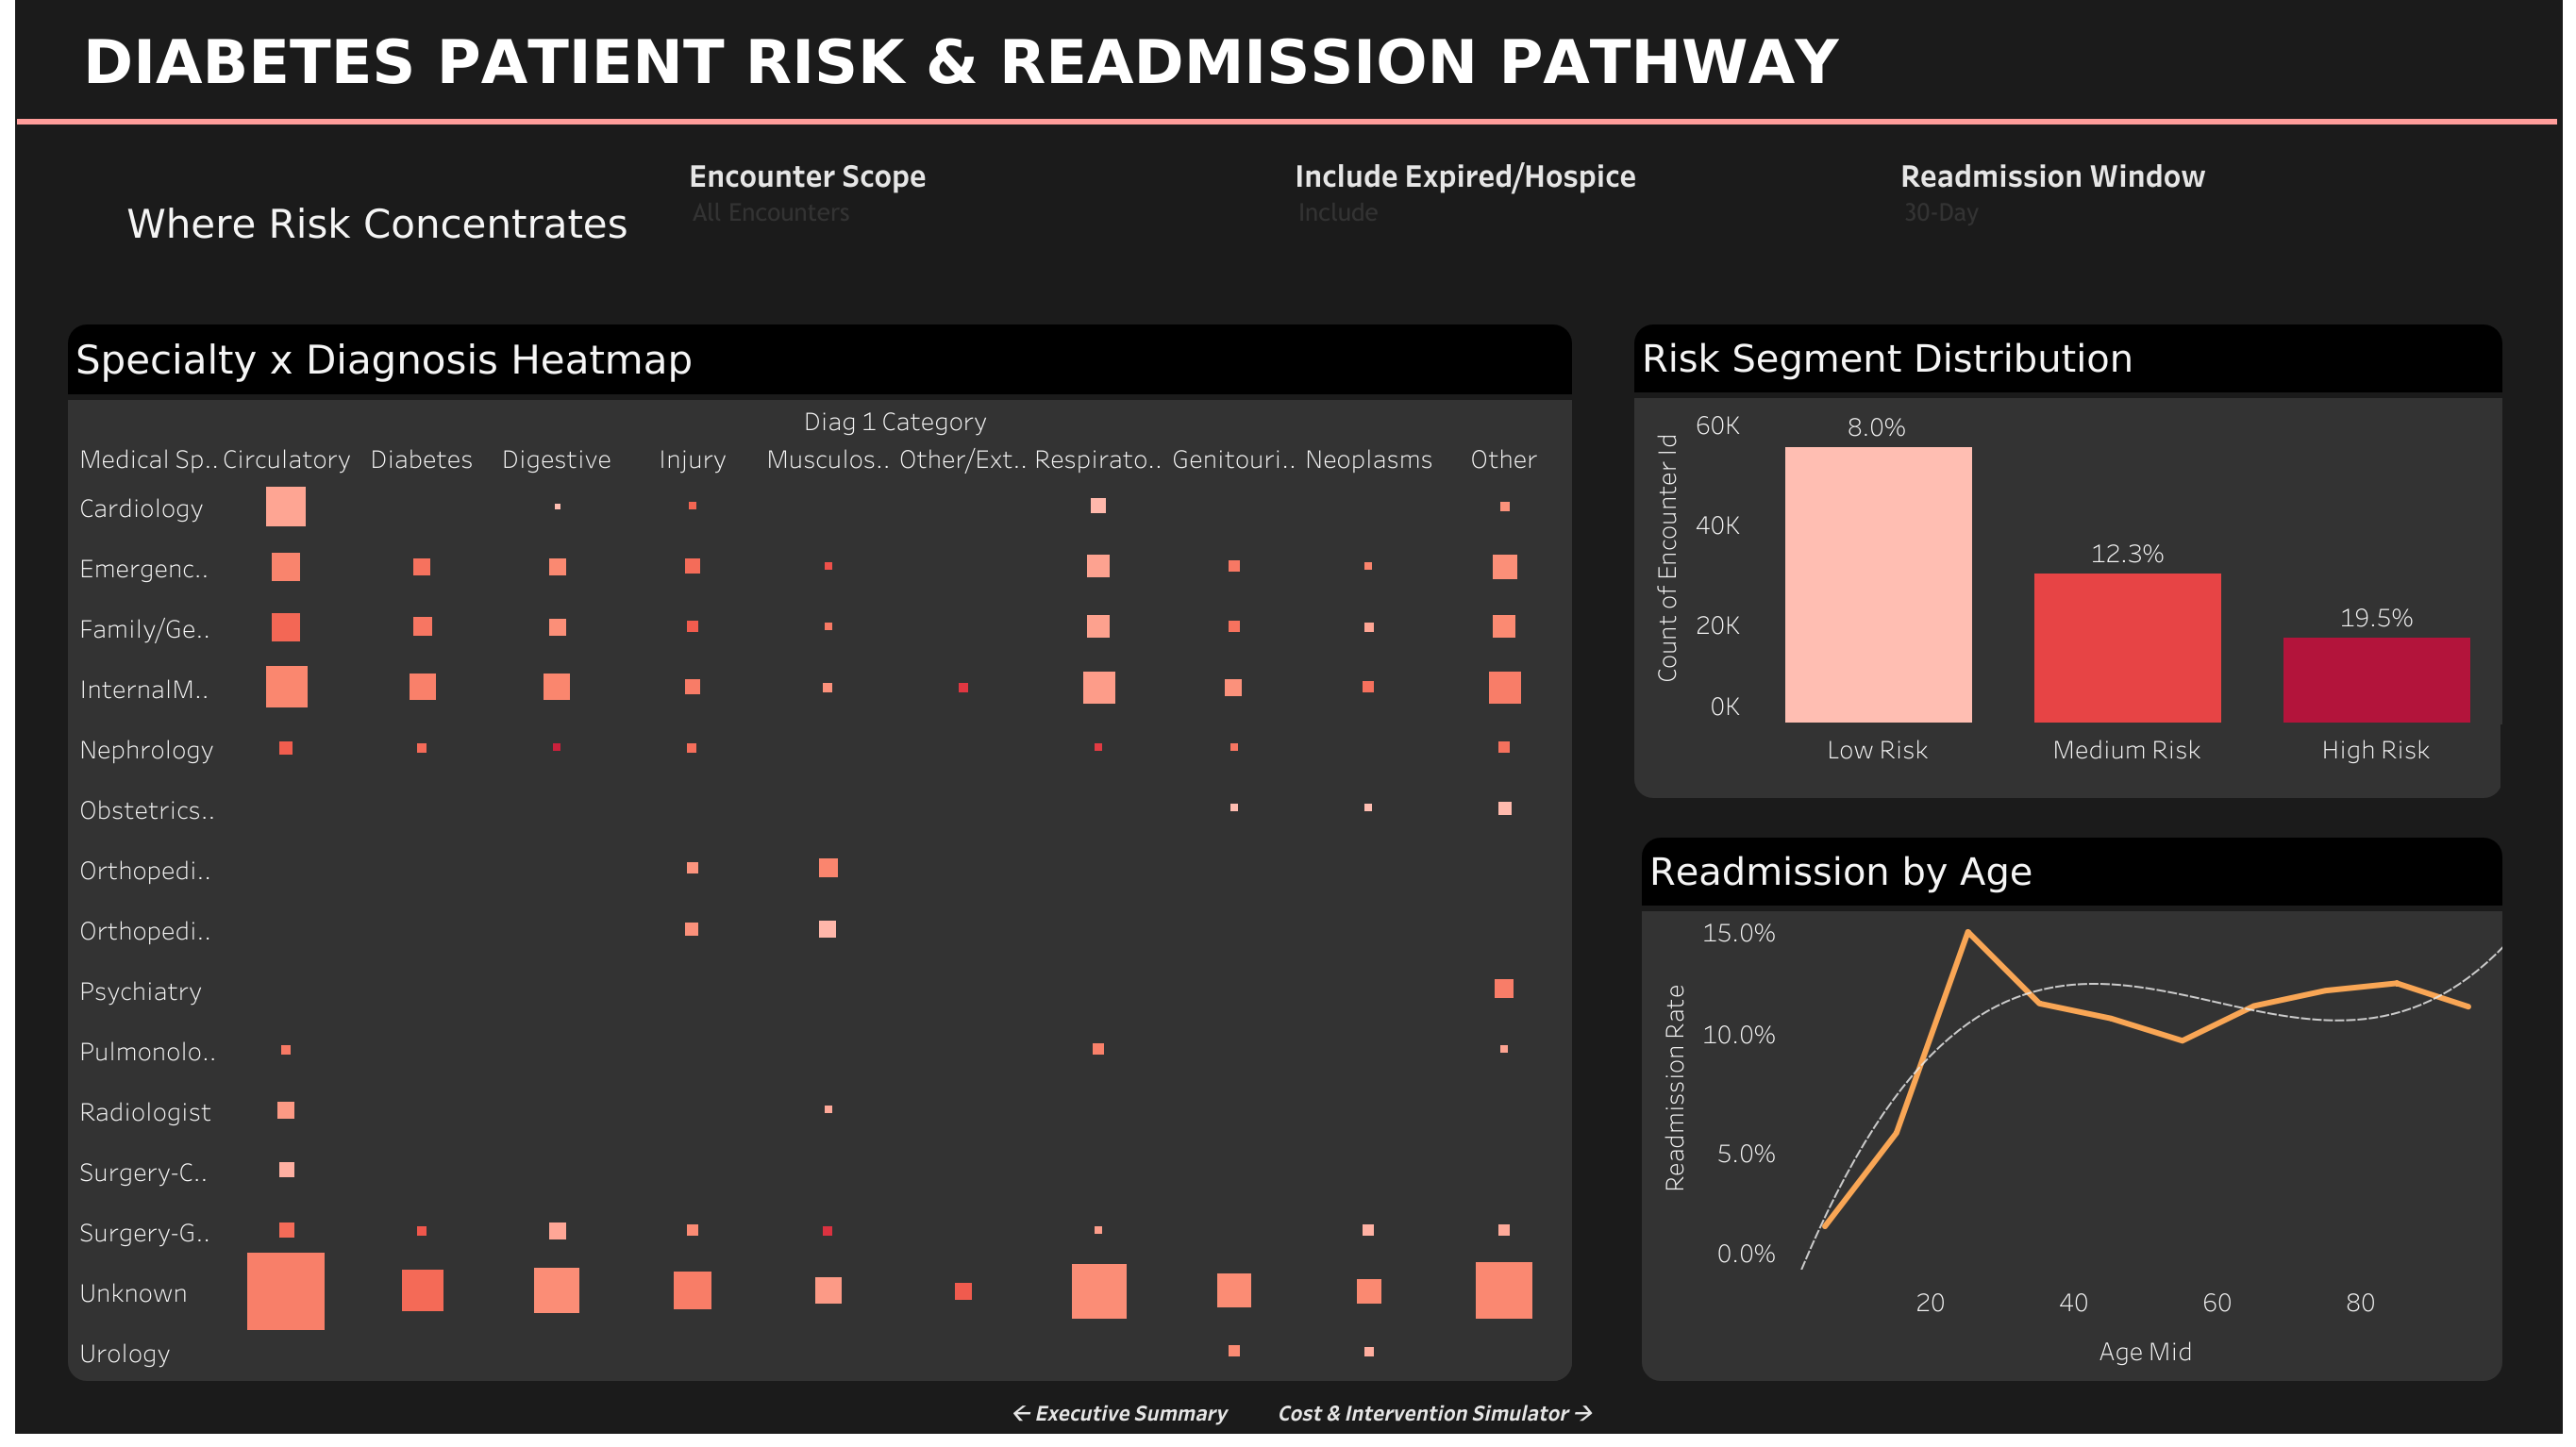

This screenshot's page, from the dashboard's own definition file:
{"tool":"tableau","page":{"name":"Where Risk Concentrates","canvas":[1366,768],"ordinal":3},"visuals":[{"type":"text","box":[8,0,1350,65]},{"type":"text","box":[39,76,322,85]},{"type":"parameter","param":"[Parameters].[Parameter 2445124789719042]","box":[361,76,321,85]},{"type":"parameter","param":"[Parameters].[Parameter 2445124789452801]","box":[682,76,321,85]},{"type":"parameter","param":"[Parameters].[Parameter 2445124788506624]","box":[1003,76,321,85]},{"type":"worksheet","title":"Specialty x Diagnosis Heatmap","mark":"Square","rows":["medical_specialty"],"cols":["diag_1_category"],"box":[36,172,797,560]},{"type":"worksheet","title":"Risk Segment Distribution","mark":"Bar","rows":["encounter_id"],"cols":["Calculation_2445124791078921"],"box":[866,172,460,251]},{"type":"worksheet","title":"Readmission by Age","mark":"Line","rows":["Calculation_2445124790632454"],"cols":["age_mid"],"box":[870,444,456,288]},{"type":"dashboard-object","box":[528,737,133,22]},{"type":"dashboard-object","box":[674,737,175,22]}]}

Visuals, with their boxes in screenshot pixels (x1, y1, x2, y2), scaled from the page's 1366x768 canvas onto the 2576x1447 screenshot:
text: box(15, 0, 2561, 123)
text: box(74, 143, 680, 304)
parameter: box(680, 143, 1286, 304)
parameter: box(1286, 143, 1892, 304)
parameter: box(1892, 143, 2497, 304)
"Specialty x Diagnosis Heatmap" worksheet (Square marks): box(68, 324, 1571, 1379)
"Risk Segment Distribution" worksheet (Bar marks): box(1633, 324, 2501, 797)
"Readmission by Age" worksheet (Line marks): box(1641, 837, 2501, 1379)
dashboard-object: box(995, 1389, 1246, 1430)
dashboard-object: box(1271, 1389, 1601, 1430)
